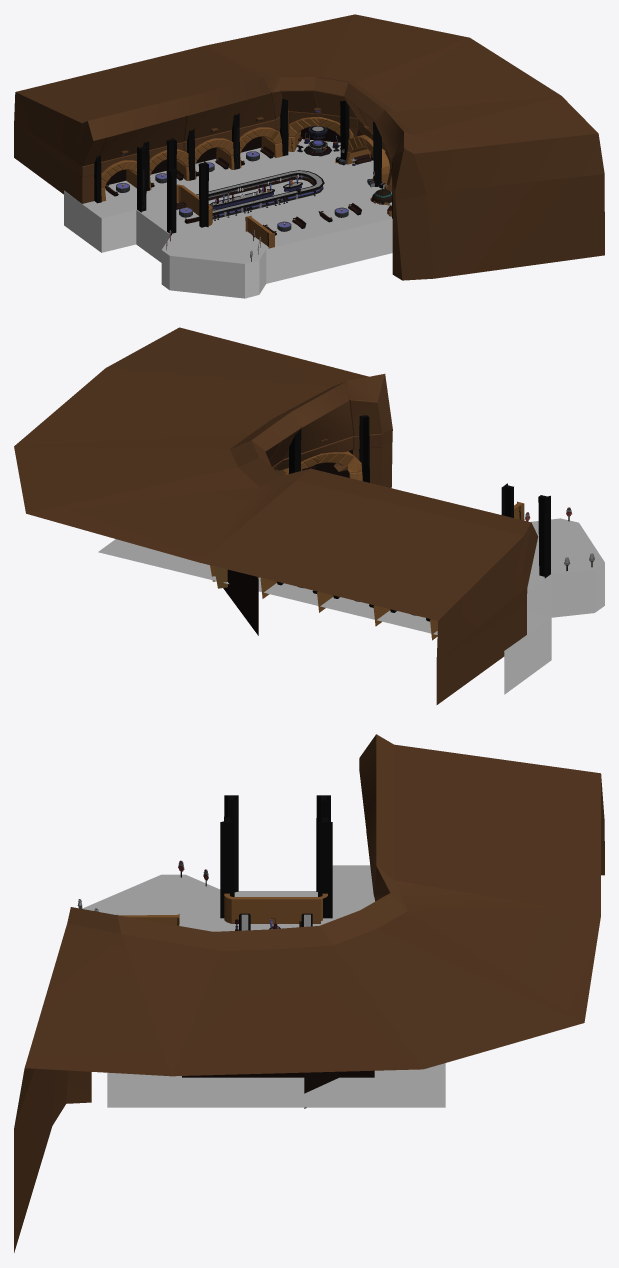
Rendered from HUB.fbx.
3 views of the same model, one above another, from view 1: azimuth 30°, elevation 25°; view 2: azimuth 150°, elevation 25°; view 3: azimuth 270°, elevation 25° (orthographic). The views are drawn at different scales.
Parts seen in each view (by area): view 1: Canteen_Wall, Ground, Columns, bar, Sofas, Tables, Bar_mid; view 2: Canteen_Wall, Ground, Columns; view 3: Canteen_Wall, Ground, Columns.
Part boxes in pixels (x1,y1,x2,y2): Canteen_Wall: [14, 14, 604, 280]; Ground: [64, 139, 392, 298]; Columns: [94, 97, 392, 234]; bar: [196, 170, 324, 219]; Sofas: [105, 146, 373, 235]; Tables: [116, 151, 348, 231]; Bar_mid: [209, 182, 302, 209]; Canteen_Wall: [14, 327, 538, 704]; Ground: [98, 518, 604, 694]; Columns: [223, 415, 550, 635]; Canteen_Wall: [14, 734, 604, 1252]; Ground: [82, 865, 445, 1107]; Columns: [182, 795, 374, 1108].
Size of the model in its own units: 75.28 by 25.57 by 61.7.
